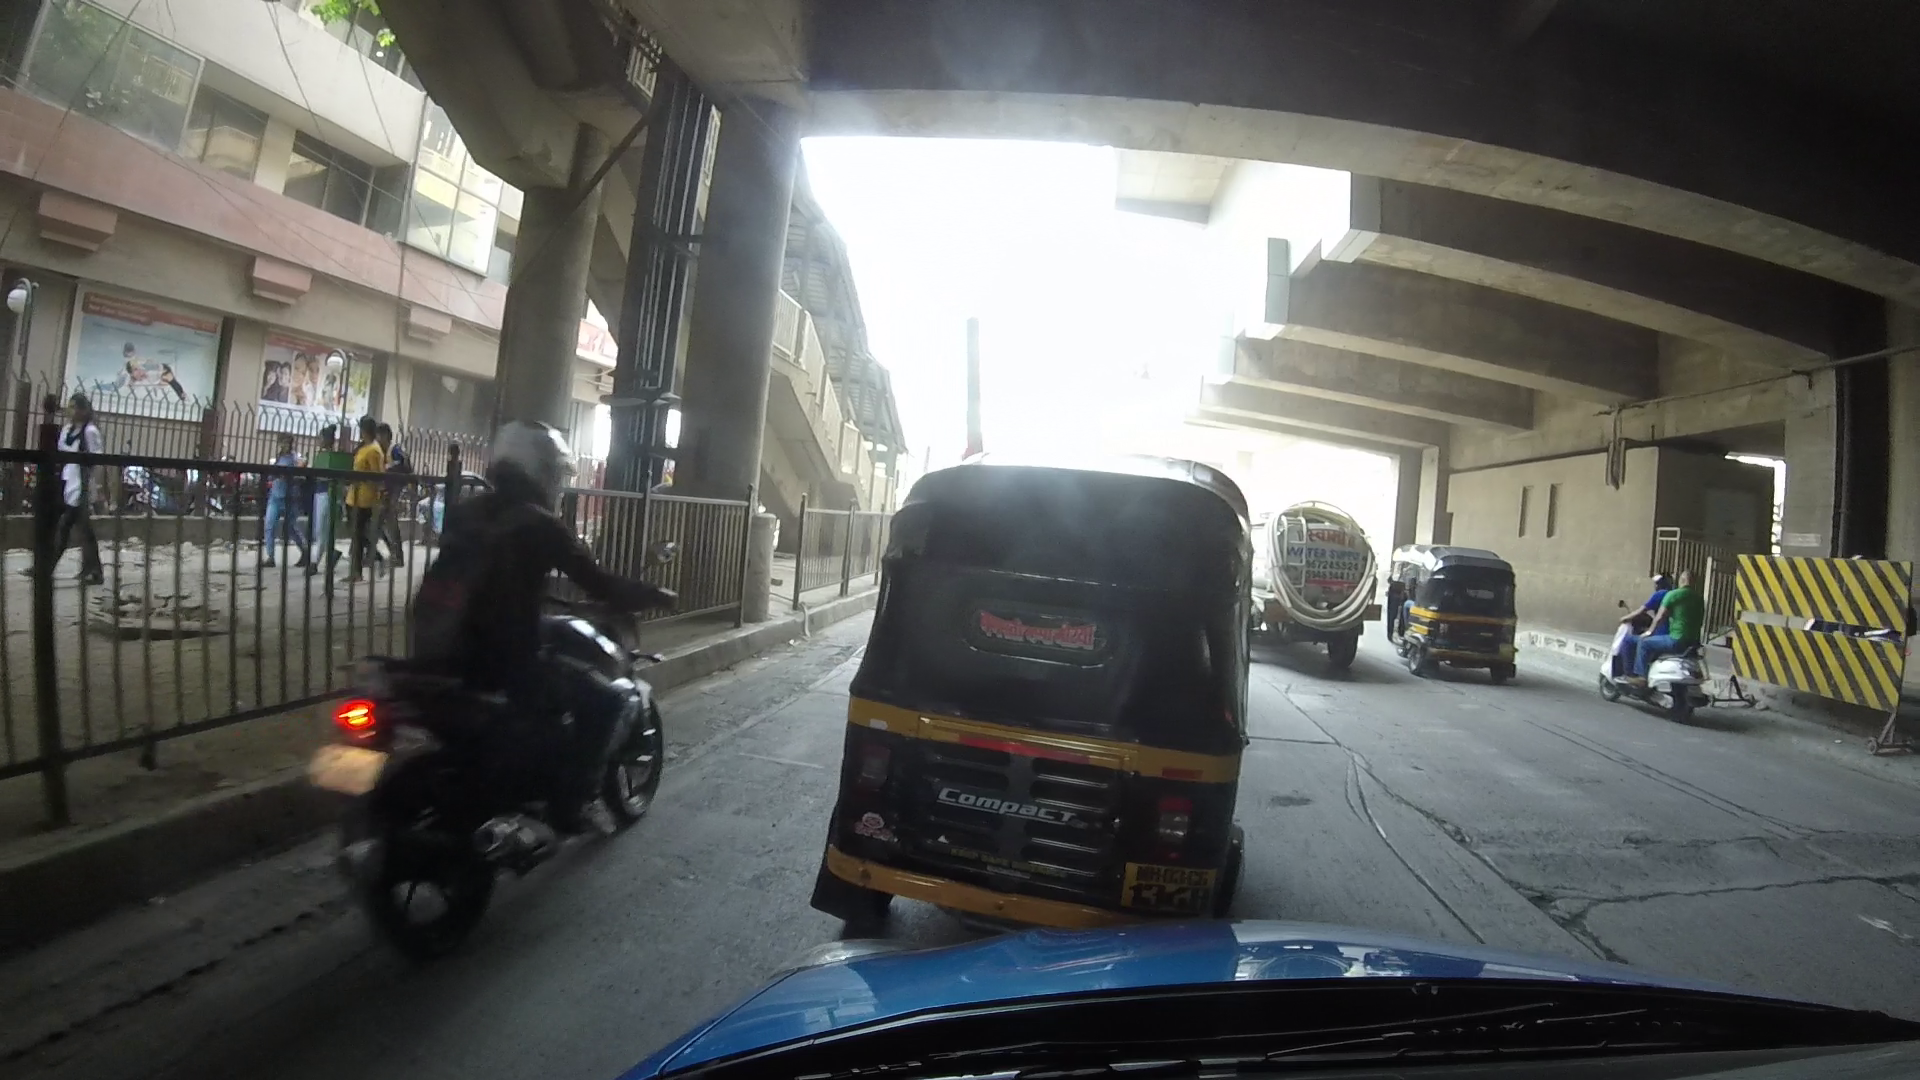bike/scooter: (313, 419, 684, 948), (1602, 566, 1691, 723)
rickshaw: (837, 458, 1258, 930), (1375, 545, 1522, 676)
truck: (1251, 501, 1385, 663)
